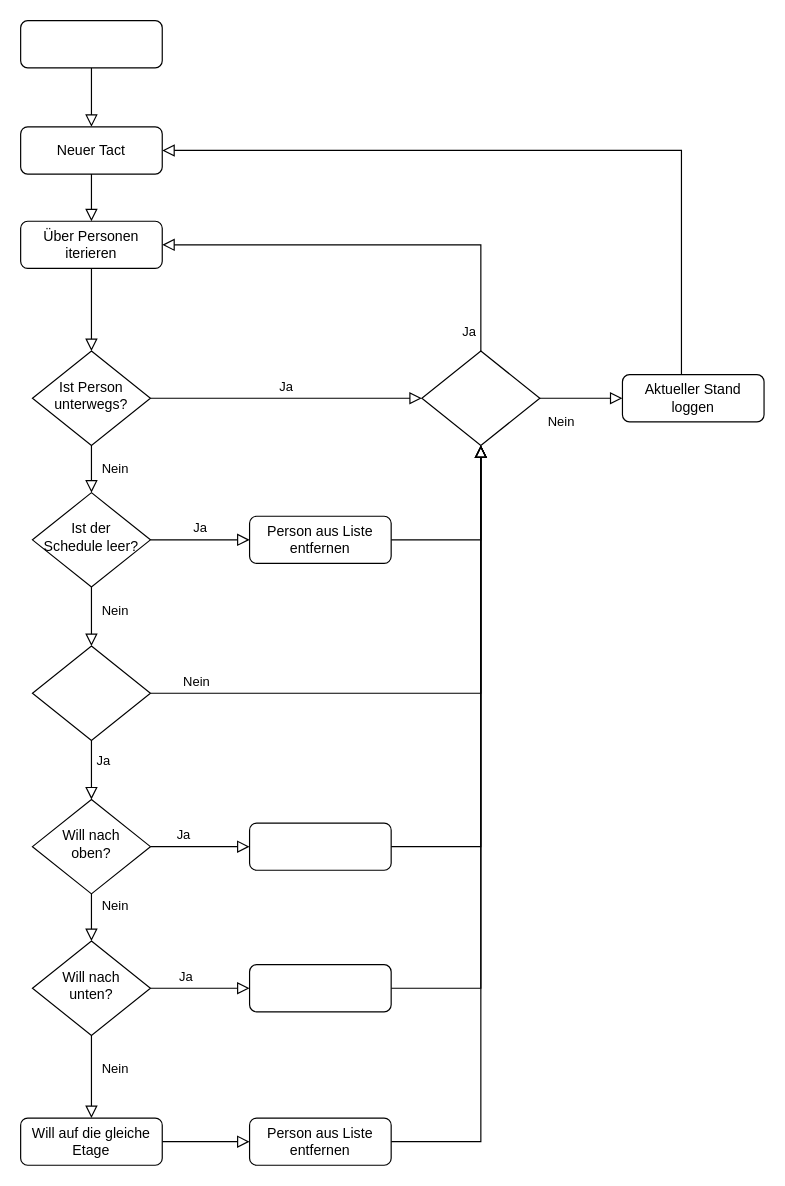
The diagram is 785 pixels wide and 1186 high, and some of its shapes have lost their labels. Each missing label, with the centre of its shape:
"Gibt es unbetrachtete Personen?" goes at point (480, 397).
"In Liste für nach oben einreihen" goes at point (319, 846).
"In Liste für nach unten einreihen" goes at point (319, 987).
"Ist Zeit sich zu bewegen?" goes at point (90, 692).
"Personen generieren" goes at point (90, 43).
